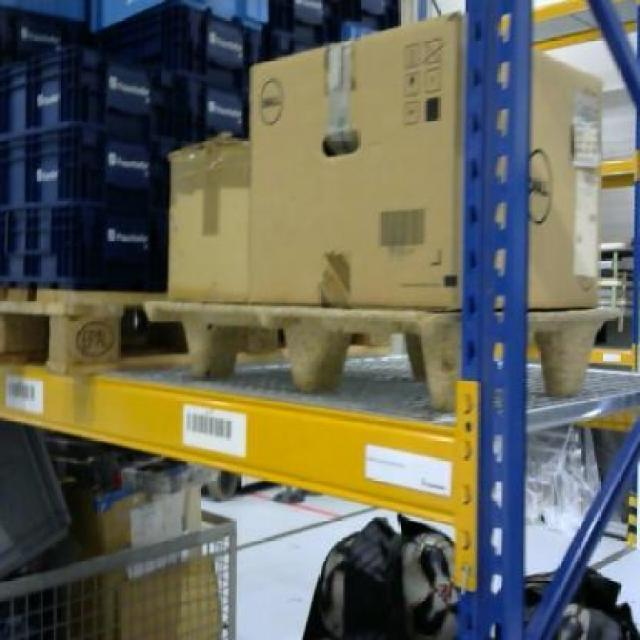box: (248, 8, 600, 306), (161, 128, 250, 297)
